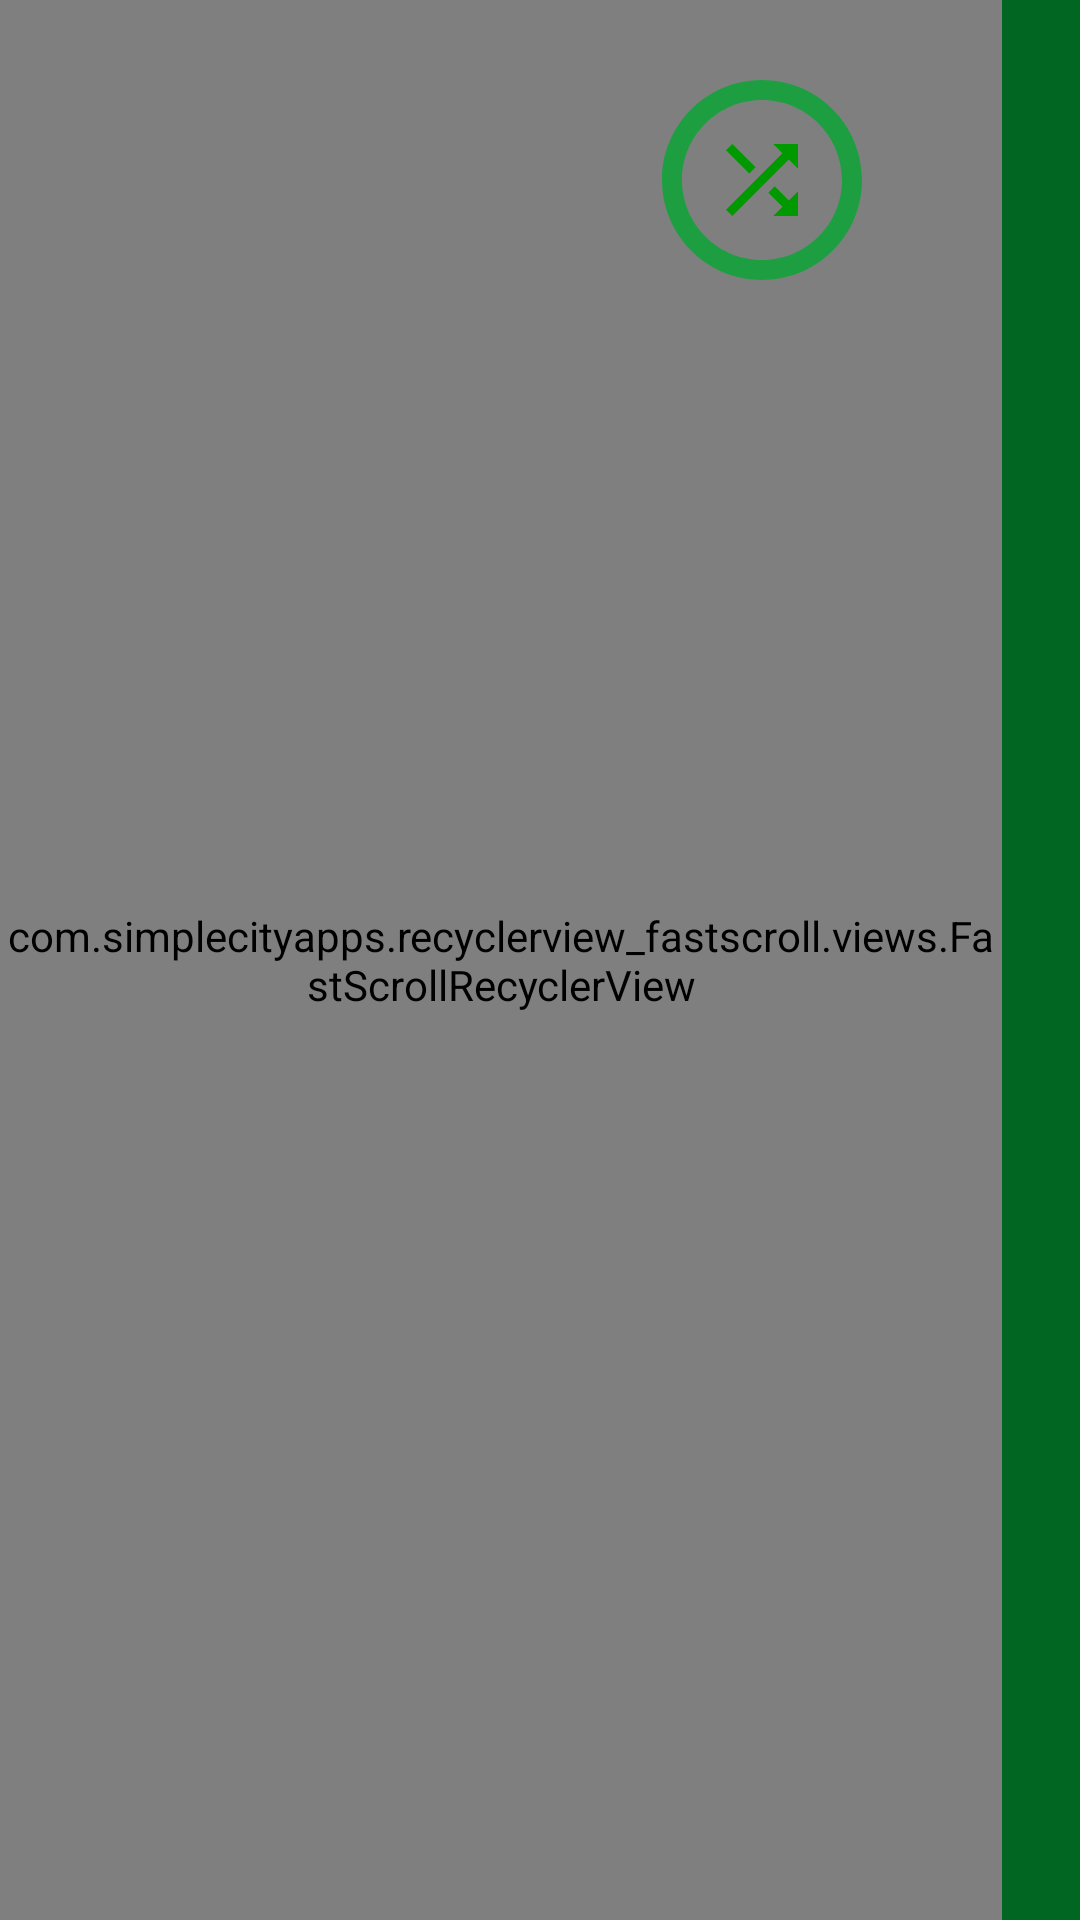

Named icons in this screenshot (1080px×1920px) and their bounding boxes, box(x1, y1, x2, y2):
Alles Zufällig Abspielen: box(662, 80, 862, 280)
